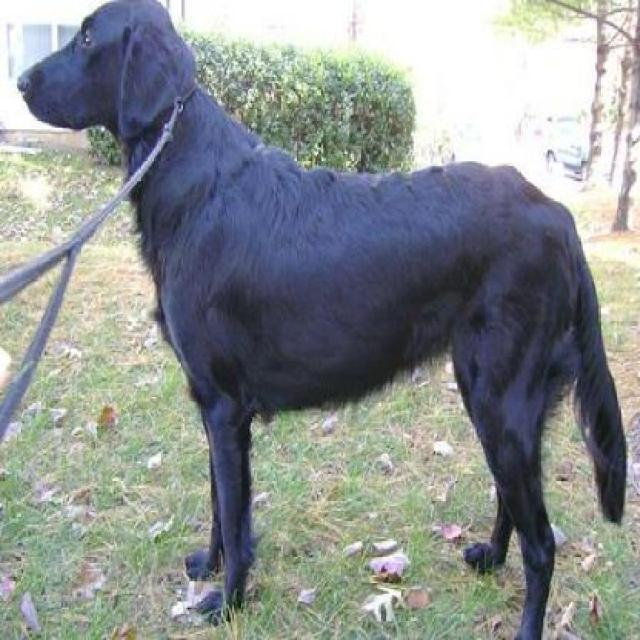Dog: (15, 1, 632, 638)
